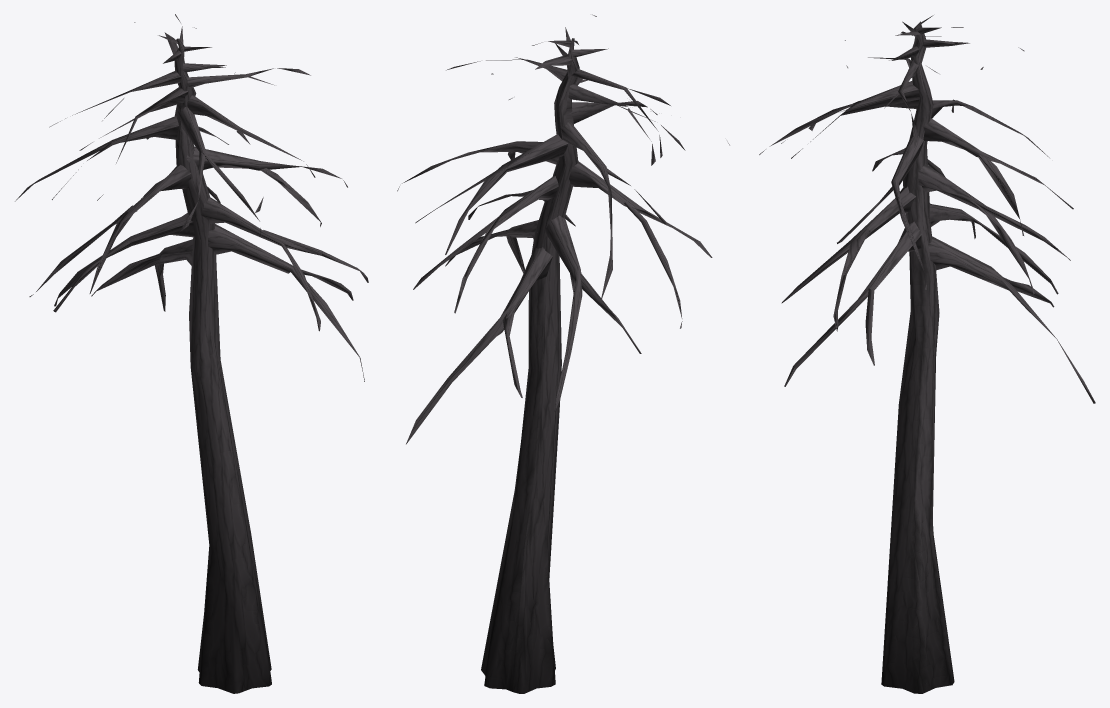
The model's file is DeadTree_3_far.gltf.
3 renders of one model, left to right at view 1: azimuth 30°, elevation 25°; view 2: azimuth 150°, elevation 25°; view 3: azimuth 270°, elevation 25°, orthographic. The views are drawn at different scales.
Visible parts, largest first — view 1: DeadTree_3; view 2: DeadTree_3; view 3: DeadTree_3.
Part boxes in pixels (box(x1,y1,x2,y2)): DeadTree_3: box(15, 14, 368, 693); DeadTree_3: box(397, 14, 729, 693); DeadTree_3: box(759, 15, 1095, 693).
Size of the model in its own units: 6.38 by 13.24 by 6.39.
1 material, 1 textured.
